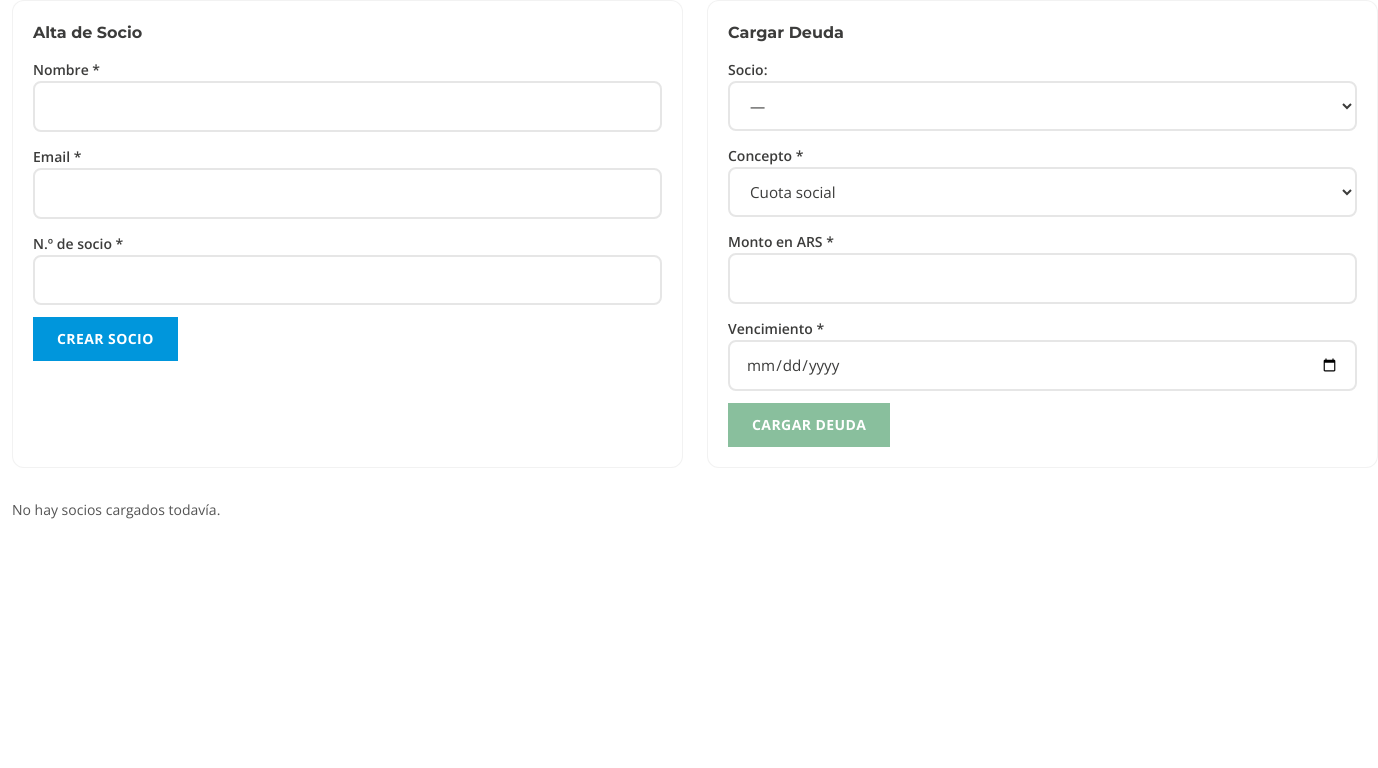
Test: SociosTab › creates a member and refreshes the list
Expected: the text "No hay socios cargados todavía." is shown, top-left (12, 500), bottom-right (220, 519)
Type "María Gómez" into the field below "Nombre *" at (348, 106), box top-left (33, 81), bottom-right (662, 132)
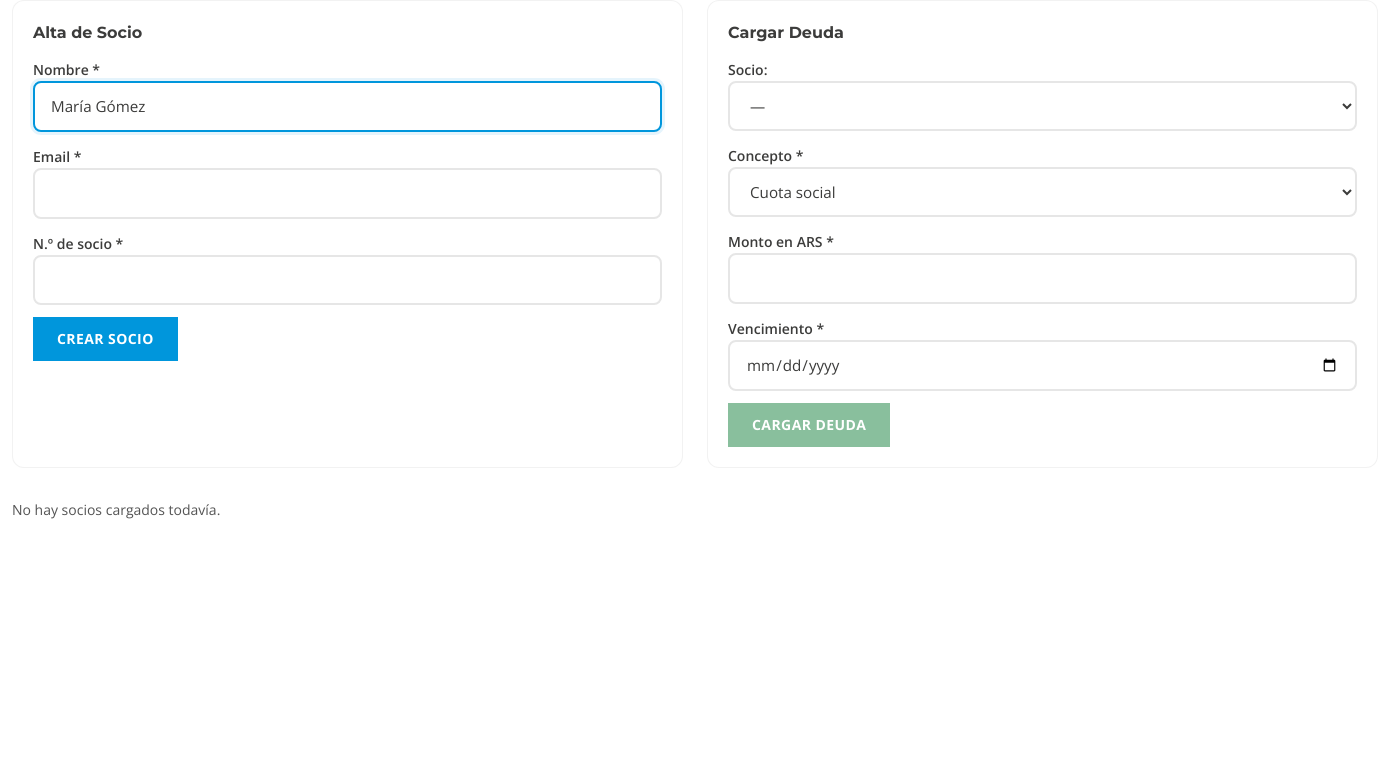
Type "maria@test.local" into the field below "Email *" at (348, 193), box top-left (33, 168), bottom-right (662, 219)
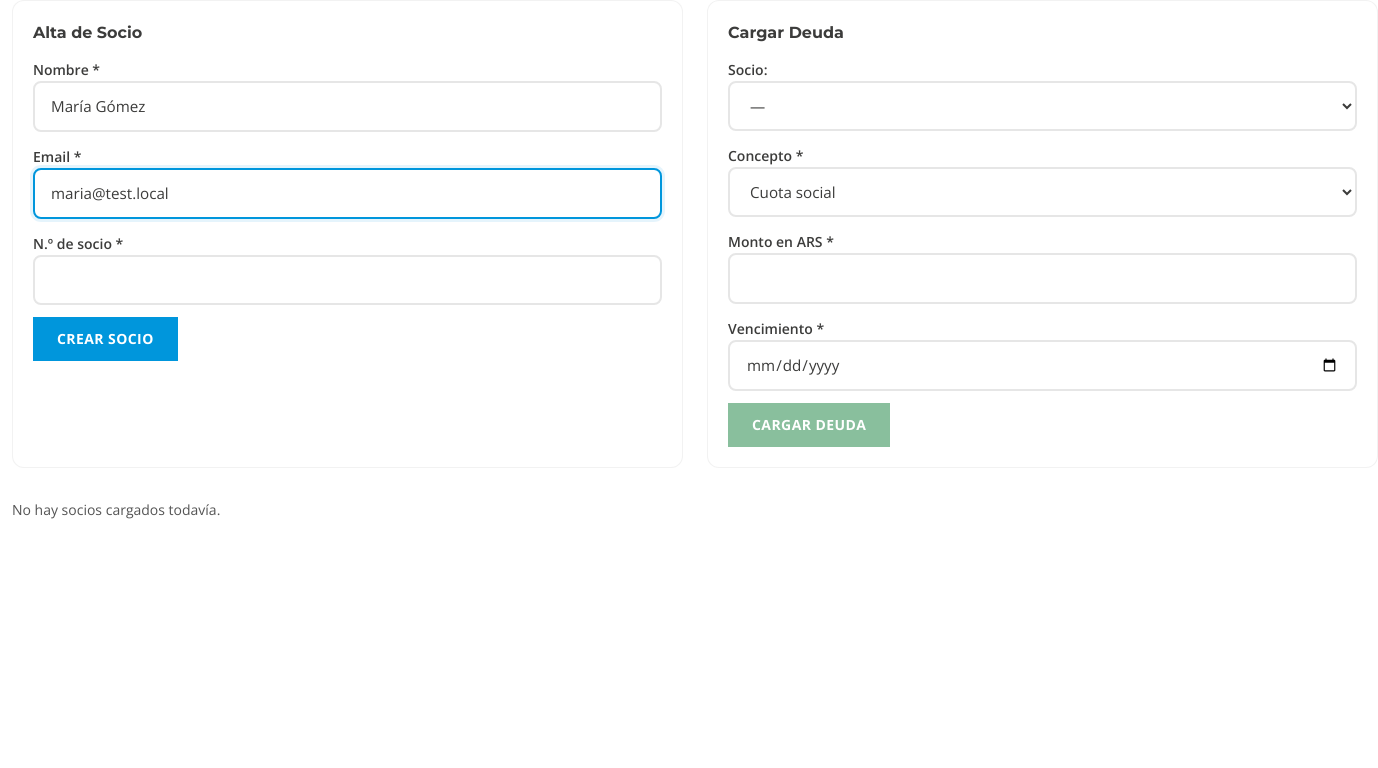
Type "SOC-001" into the field below "N.º de socio *" at (348, 280), box top-left (33, 255), bottom-right (662, 305)
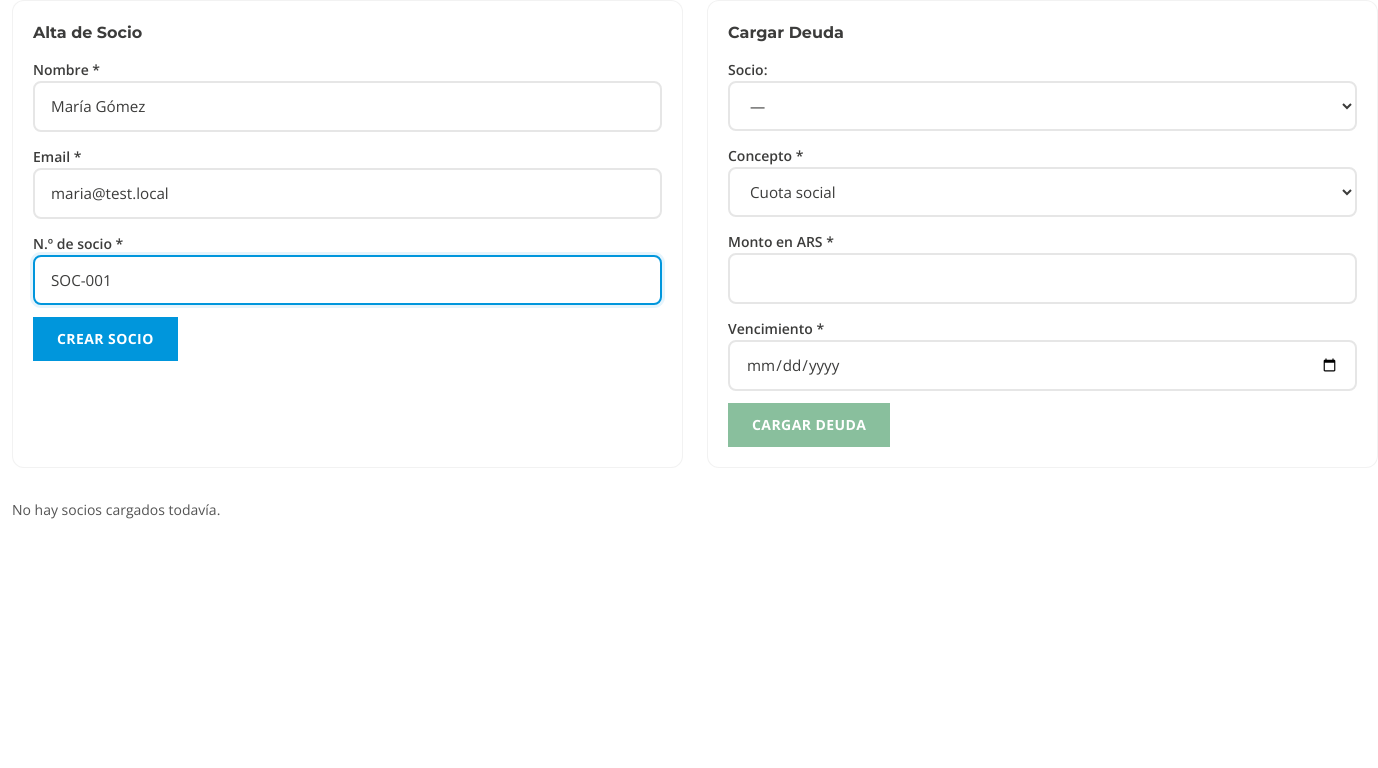
Click the button "Crear Socio" at (105, 339), box top-left (33, 317), bottom-right (178, 361)
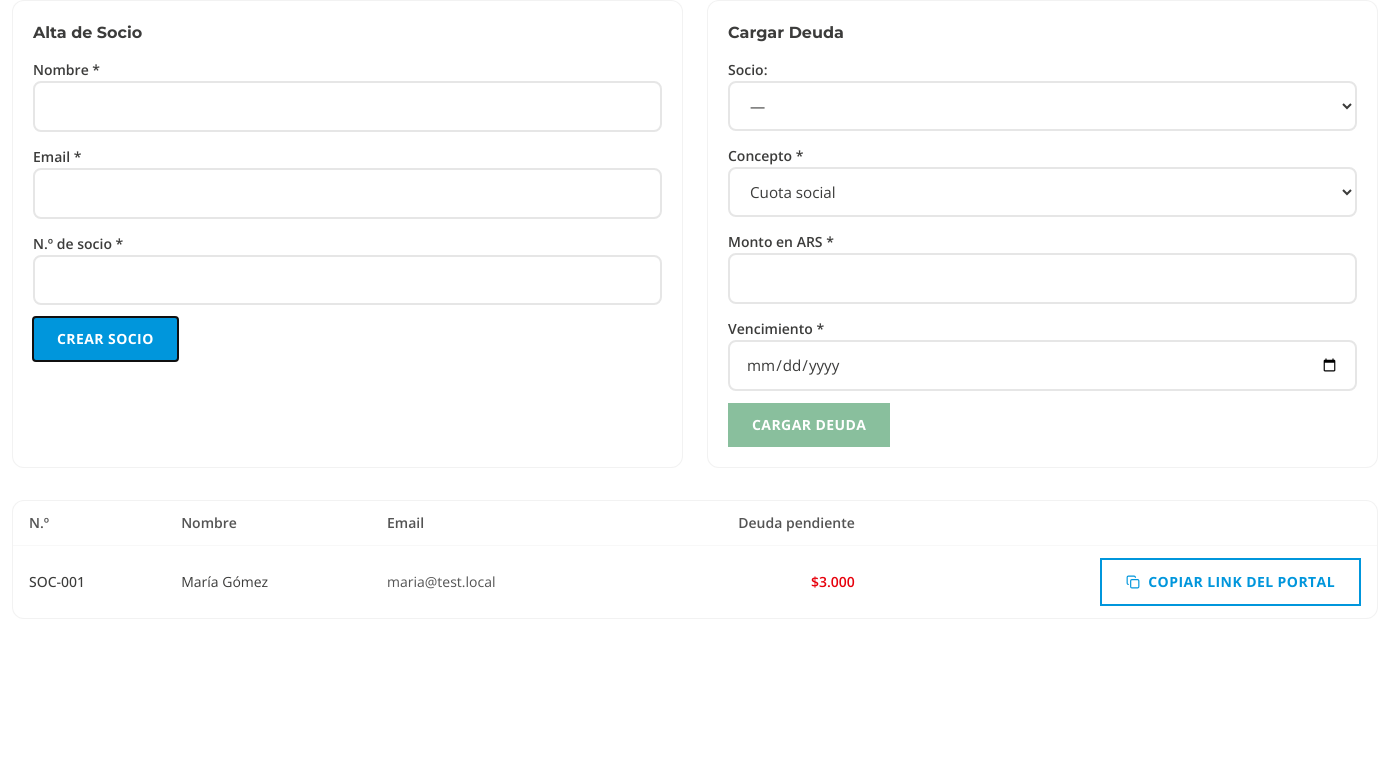
Expected: the text "María Gómez" is shown, top-left (165, 545), bottom-right (371, 618)
